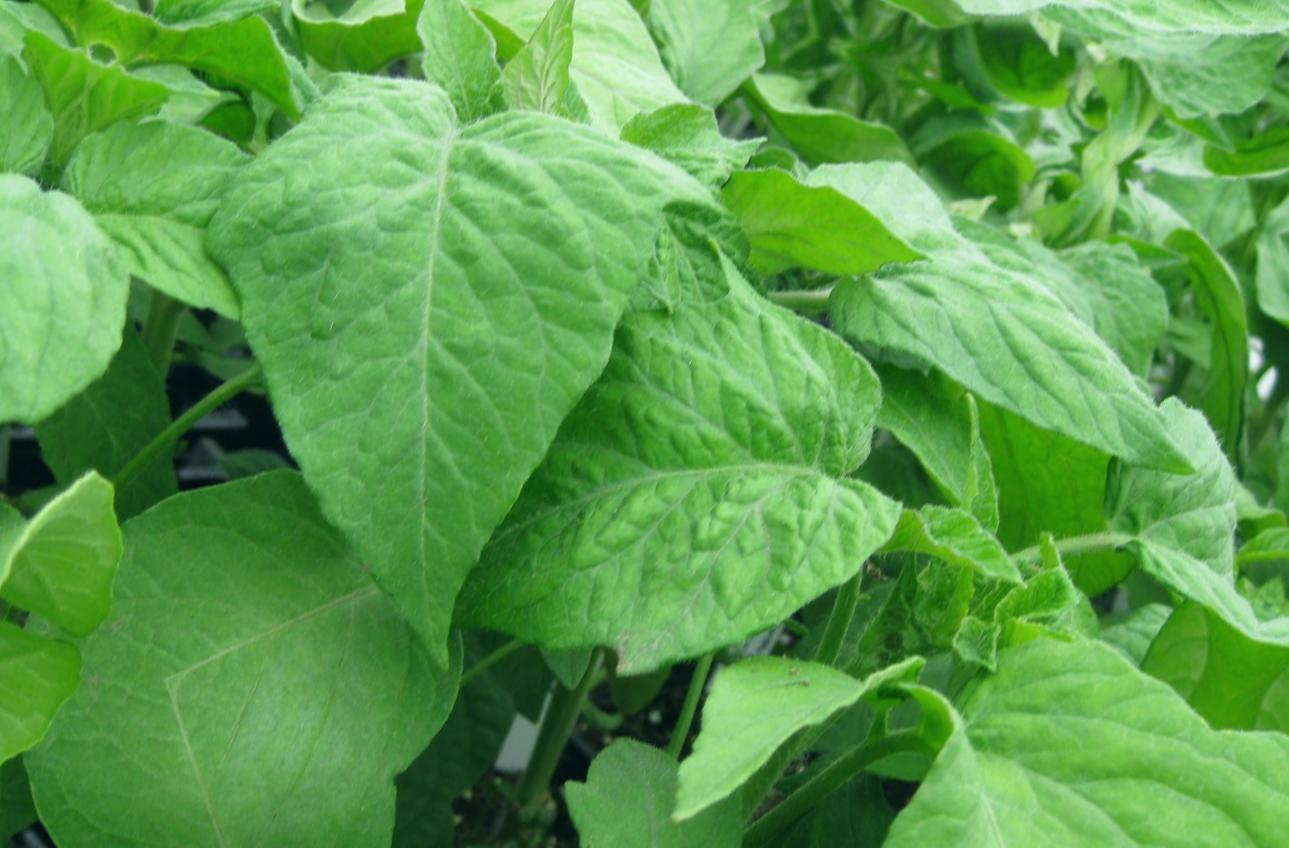Tomato leaf: (69, 0, 715, 686), (768, 125, 1259, 490)
